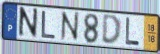8: (82, 13, 100, 45)
D: (101, 14, 123, 47)
L: (40, 10, 57, 40), (125, 17, 141, 48)
N: (17, 6, 40, 40), (60, 10, 80, 43)
